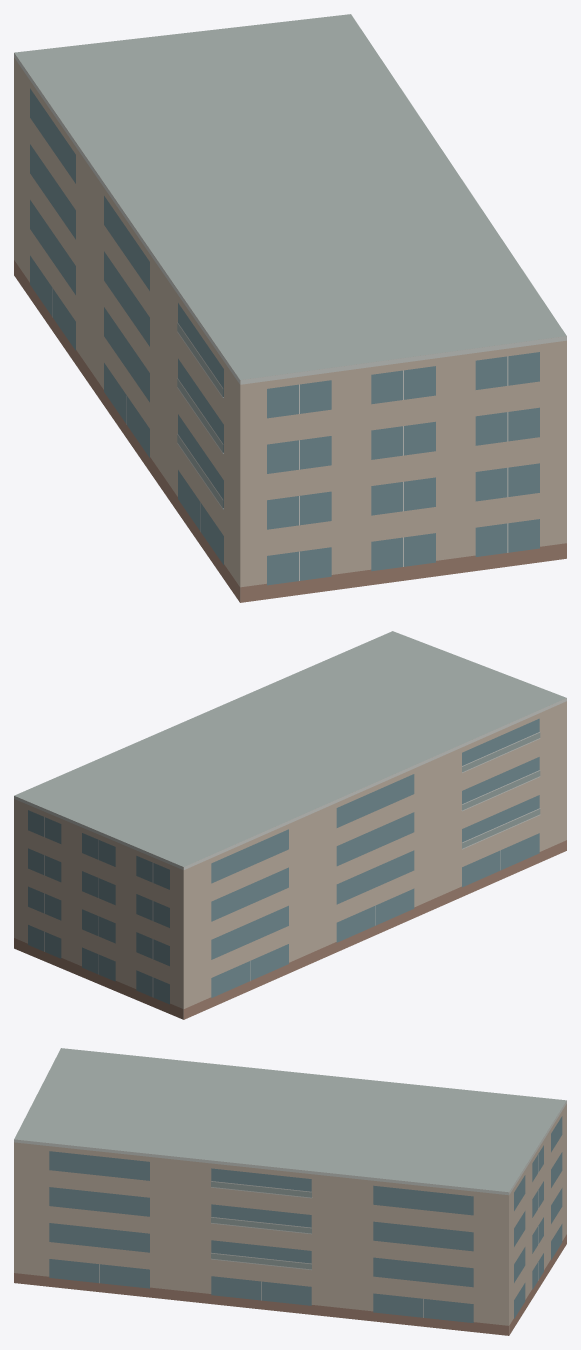
File: survey-upis-32751933.glb
3 renders of one model, top to bottom at view 1: azimuth 30°, elevation 25°; view 2: azimuth 150°, elevation 25°; view 3: azimuth 270°, elevation 25°, orthographic. The views are drawn at different scales.
Parts seen in each view (by area): view 1: survey-upis-32751933.tmp; view 2: survey-upis-32751933.tmp; view 3: survey-upis-32751933.tmp.
Boxes of the visible parts, <box> form: survey-upis-32751933.tmp: <box>14,14,566,602</box>; survey-upis-32751933.tmp: <box>14,631,566,1019</box>; survey-upis-32751933.tmp: <box>14,1048,566,1335</box>.
Bounding box in the file's own units: 25.21 × 11.7 × 40.83.
